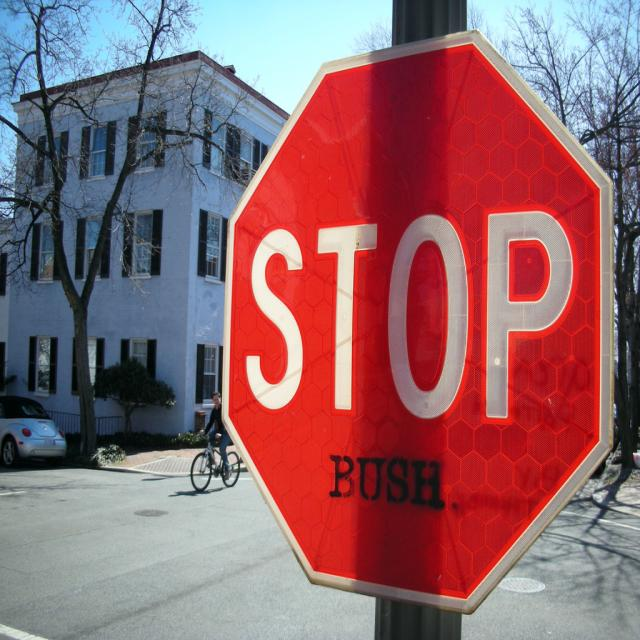Stop-sign: (219, 30, 614, 611)
